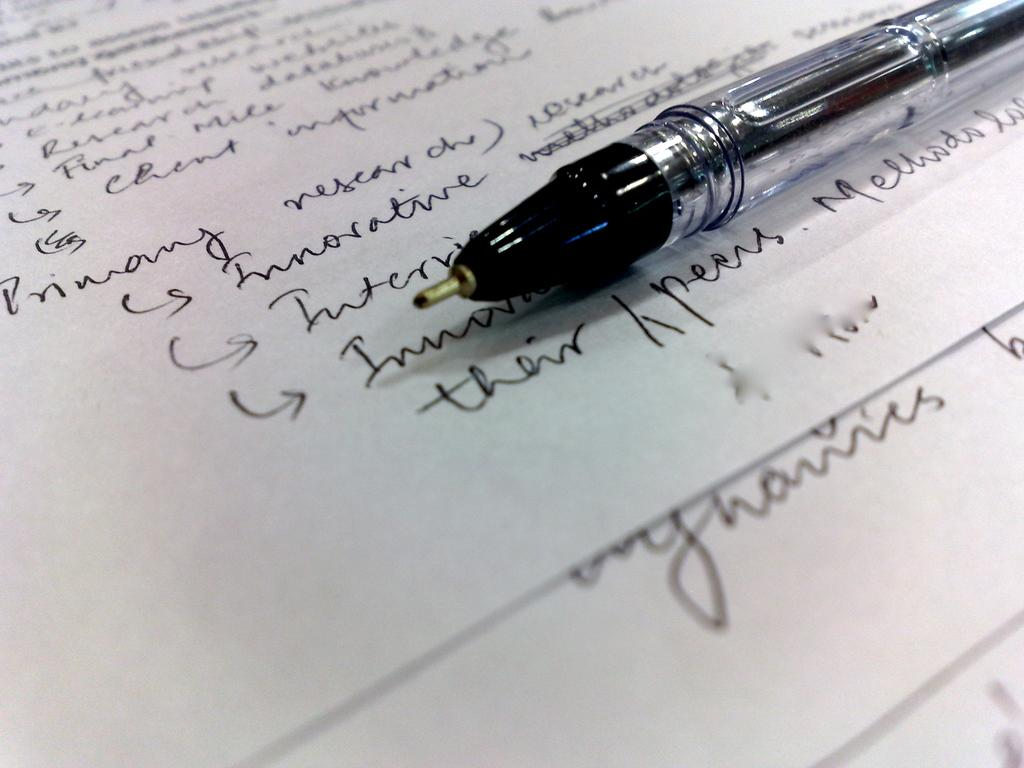pen: (416, 0, 1017, 320)
